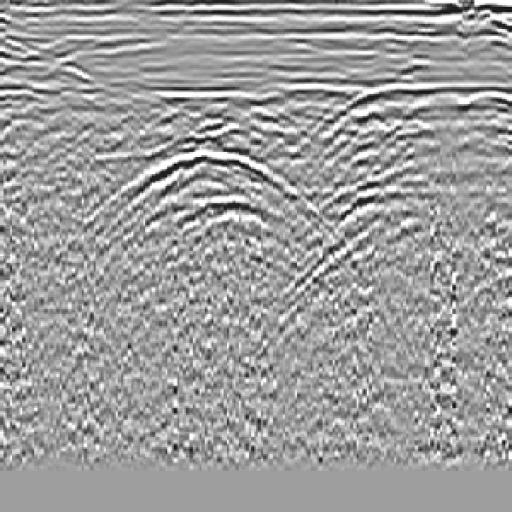metalic: (307, 69, 458, 290)
non-metallic: (82, 138, 327, 286)
